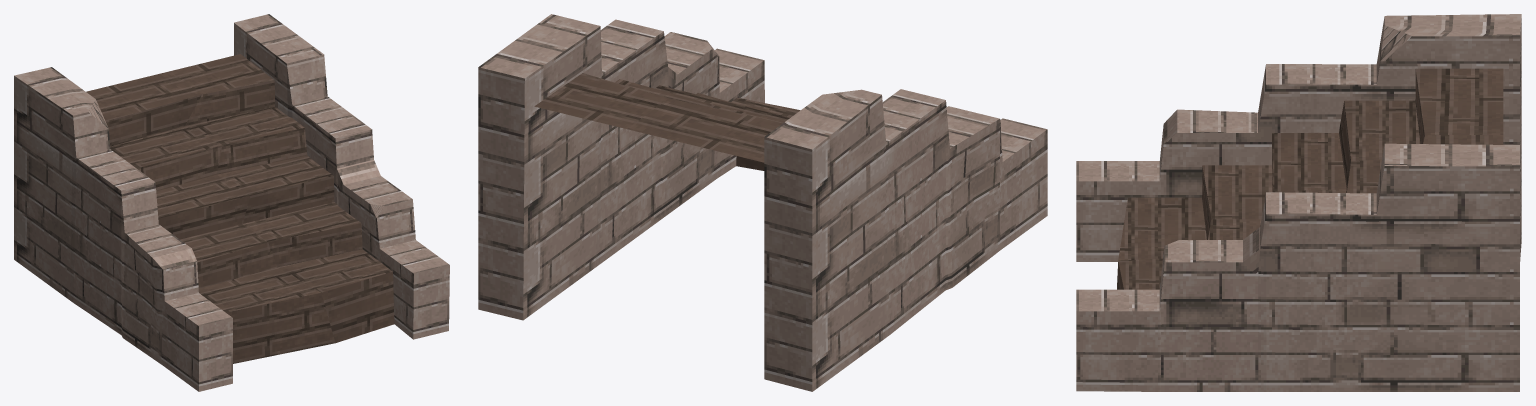
Rendered from stairs_wood_stone.glb.
3 renders of one model, left to right at view 1: azimuth 30°, elevation 25°; view 2: azimuth 150°, elevation 25°; view 3: azimuth 270°, elevation 25°, orthographic. The views are drawn at different scales.
Parts seen in each view (by area): view 1: stairs_wood_stone; view 2: stairs_wood_stone; view 3: stairs_wood_stone.
Boxes of the visible parts, x1,y1,x2,y2 form: stairs_wood_stone: (14, 14, 449, 391); stairs_wood_stone: (478, 14, 1047, 391); stairs_wood_stone: (1076, 14, 1521, 391).
Size of the model in its own units: 2.04 by 1.4 by 2.5.
1 material, 1 textured.
